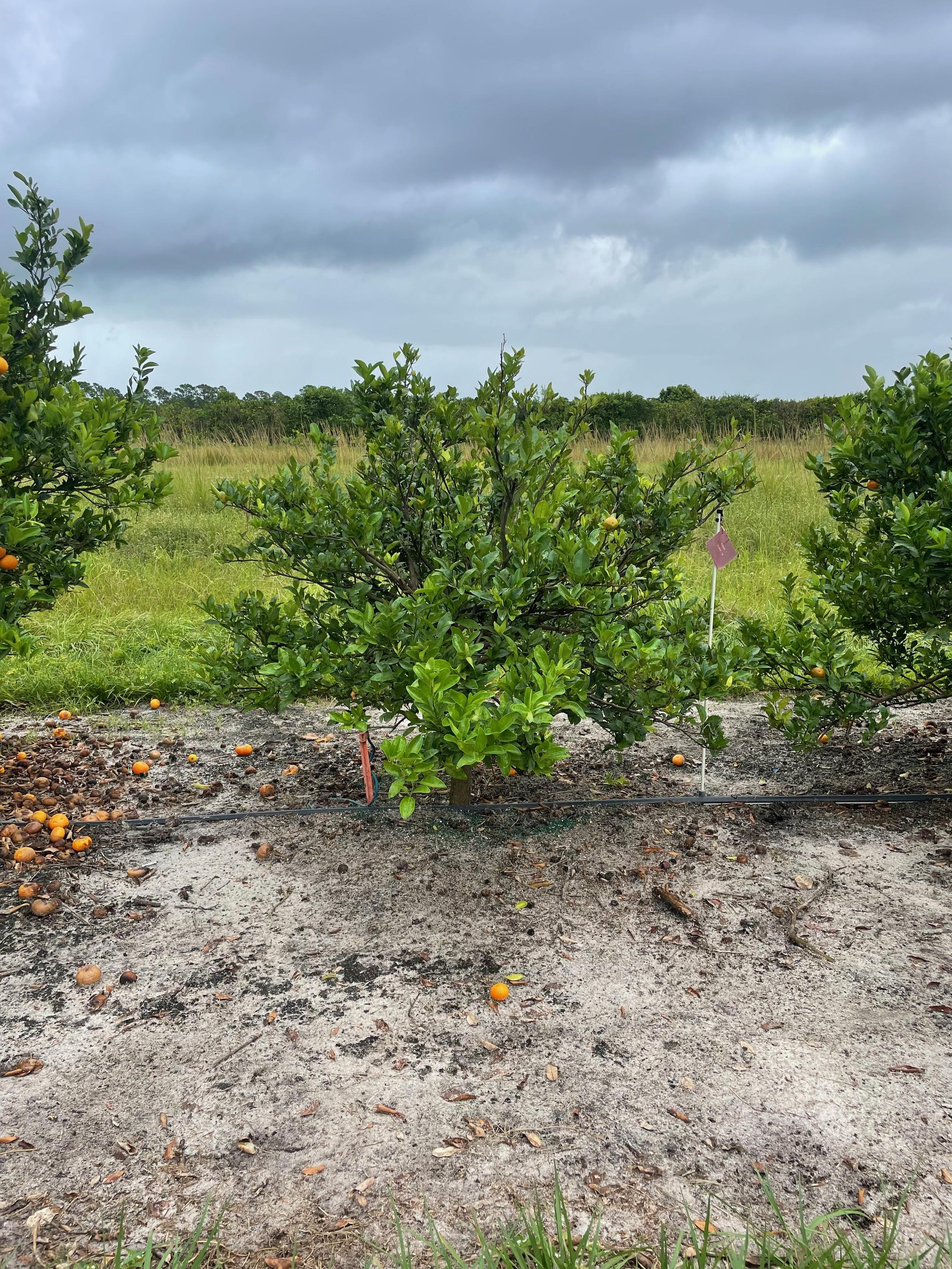fruit_on_ground: (0, 554, 19, 572), (0, 351, 11, 378), (865, 476, 881, 492), (603, 516, 619, 531), (809, 666, 826, 680), (0, 544, 8, 560)
fruit_on_tree: (75, 961, 102, 986), (30, 895, 57, 916), (488, 979, 510, 1002), (16, 880, 39, 900), (13, 844, 37, 863), (254, 841, 274, 860), (9, 827, 31, 844), (48, 812, 70, 829), (72, 834, 93, 851), (47, 824, 66, 842), (21, 818, 42, 834), (257, 781, 276, 798), (44, 879, 64, 895), (30, 808, 49, 823), (131, 759, 150, 774), (120, 968, 138, 983), (234, 741, 253, 755), (670, 751, 686, 767), (34, 773, 51, 788), (126, 865, 145, 878), (39, 794, 56, 807), (283, 762, 300, 775), (52, 725, 68, 738), (504, 764, 519, 777), (108, 786, 122, 799), (816, 731, 830, 744), (148, 696, 162, 709), (57, 708, 72, 720), (147, 748, 161, 760), (43, 716, 57, 727), (186, 752, 199, 763), (15, 749, 28, 760)
